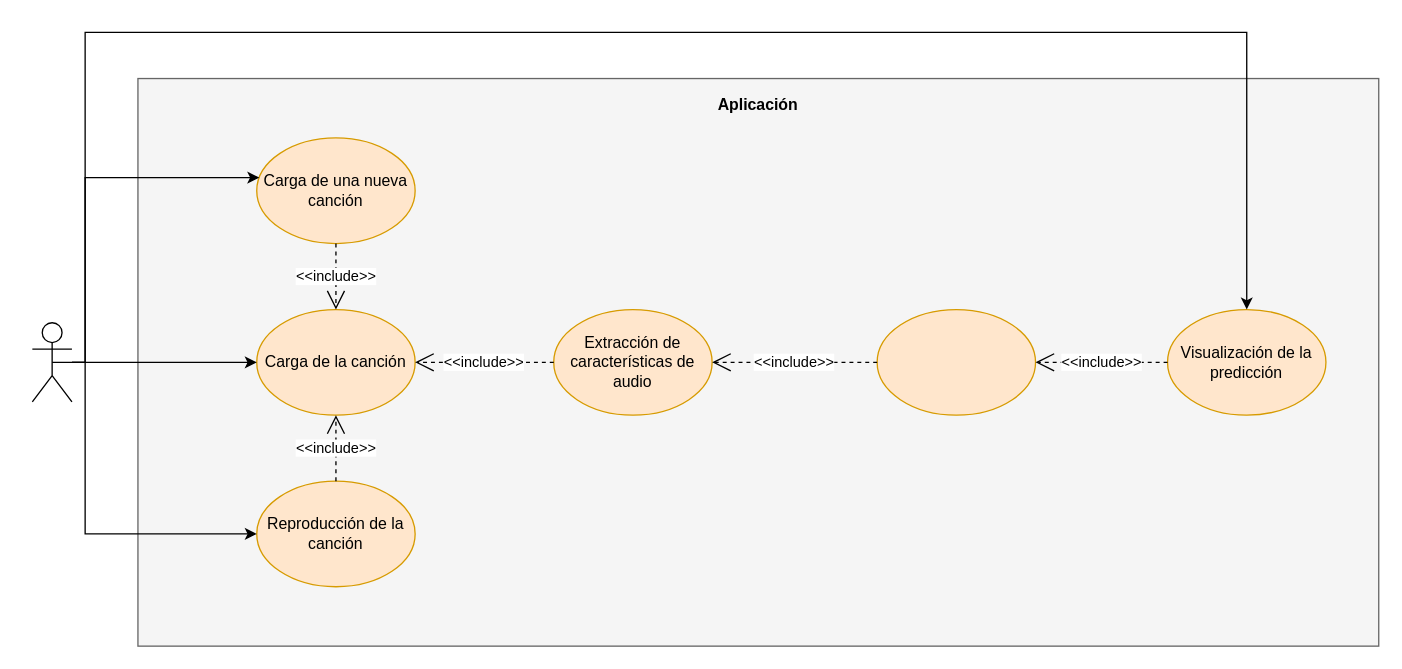
This 1402x669 diagram has some shape labels left out. The centre of each missing label's shape, as x and y in pixels:
Ejecución del modelo de machine learning: the point at 956,361
Usuario: the point at 51,361
